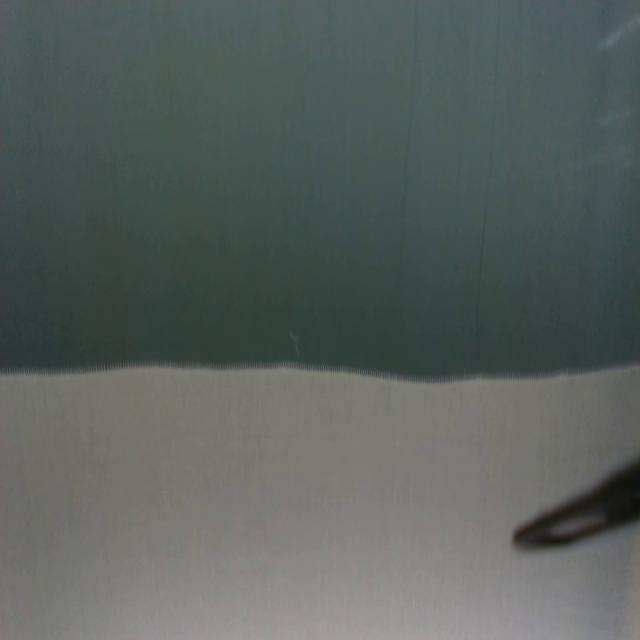crease: (471, 16, 504, 339), (398, 7, 422, 312)
